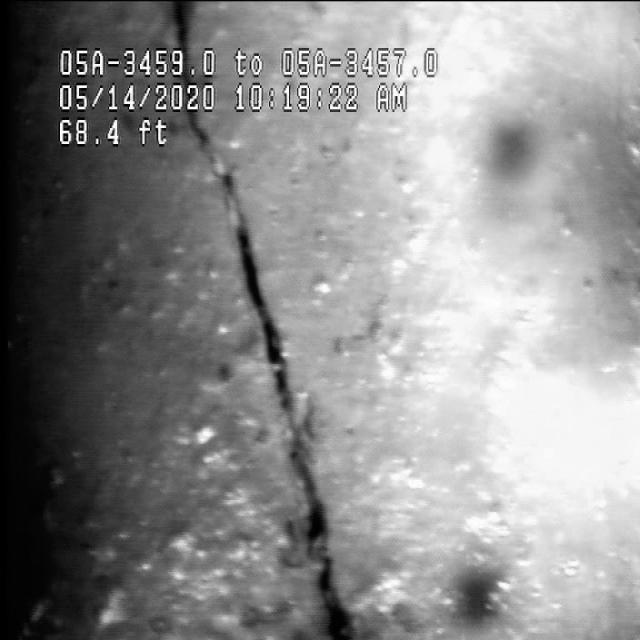Crack: (204, 158, 349, 606)
